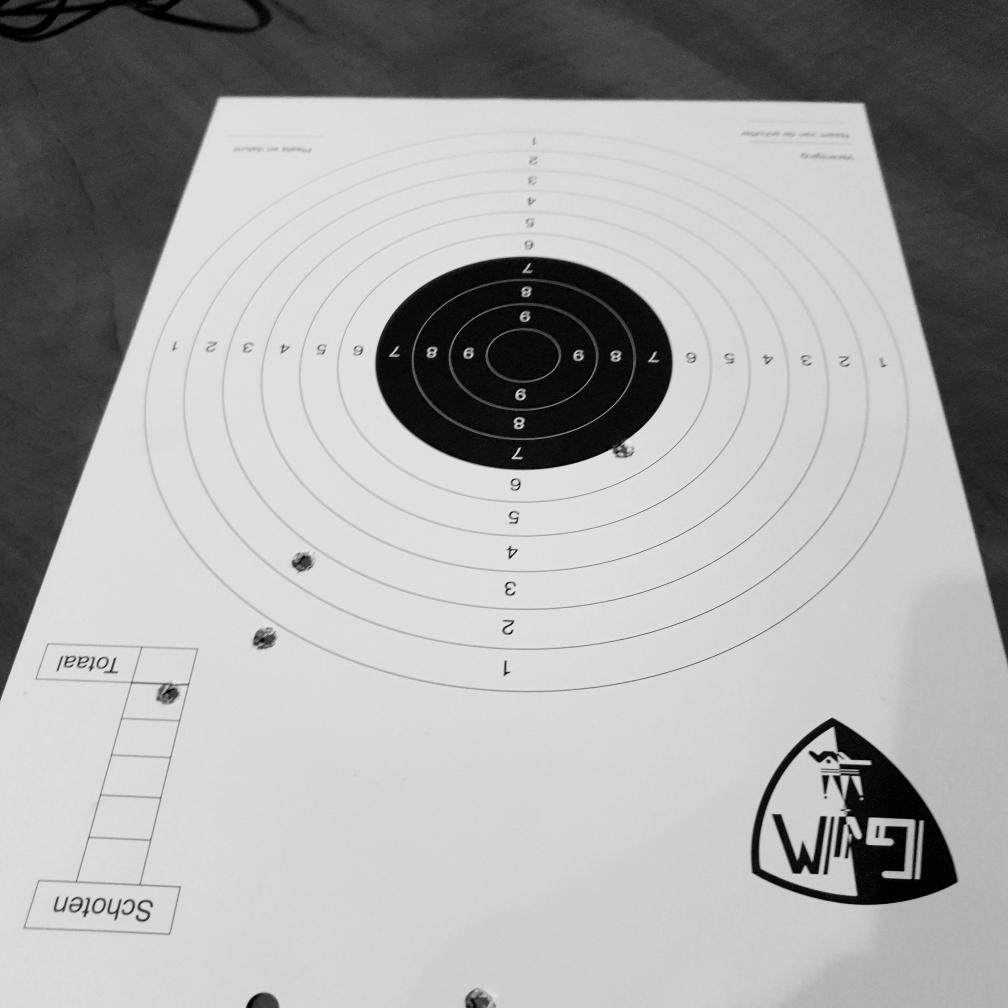0: (154, 679, 184, 706), (461, 989, 501, 1008), (250, 624, 278, 651)
2: (288, 549, 320, 574)
7: (609, 438, 636, 460)
Target: (141, 122, 912, 700)
black_contour: (376, 256, 674, 470)
